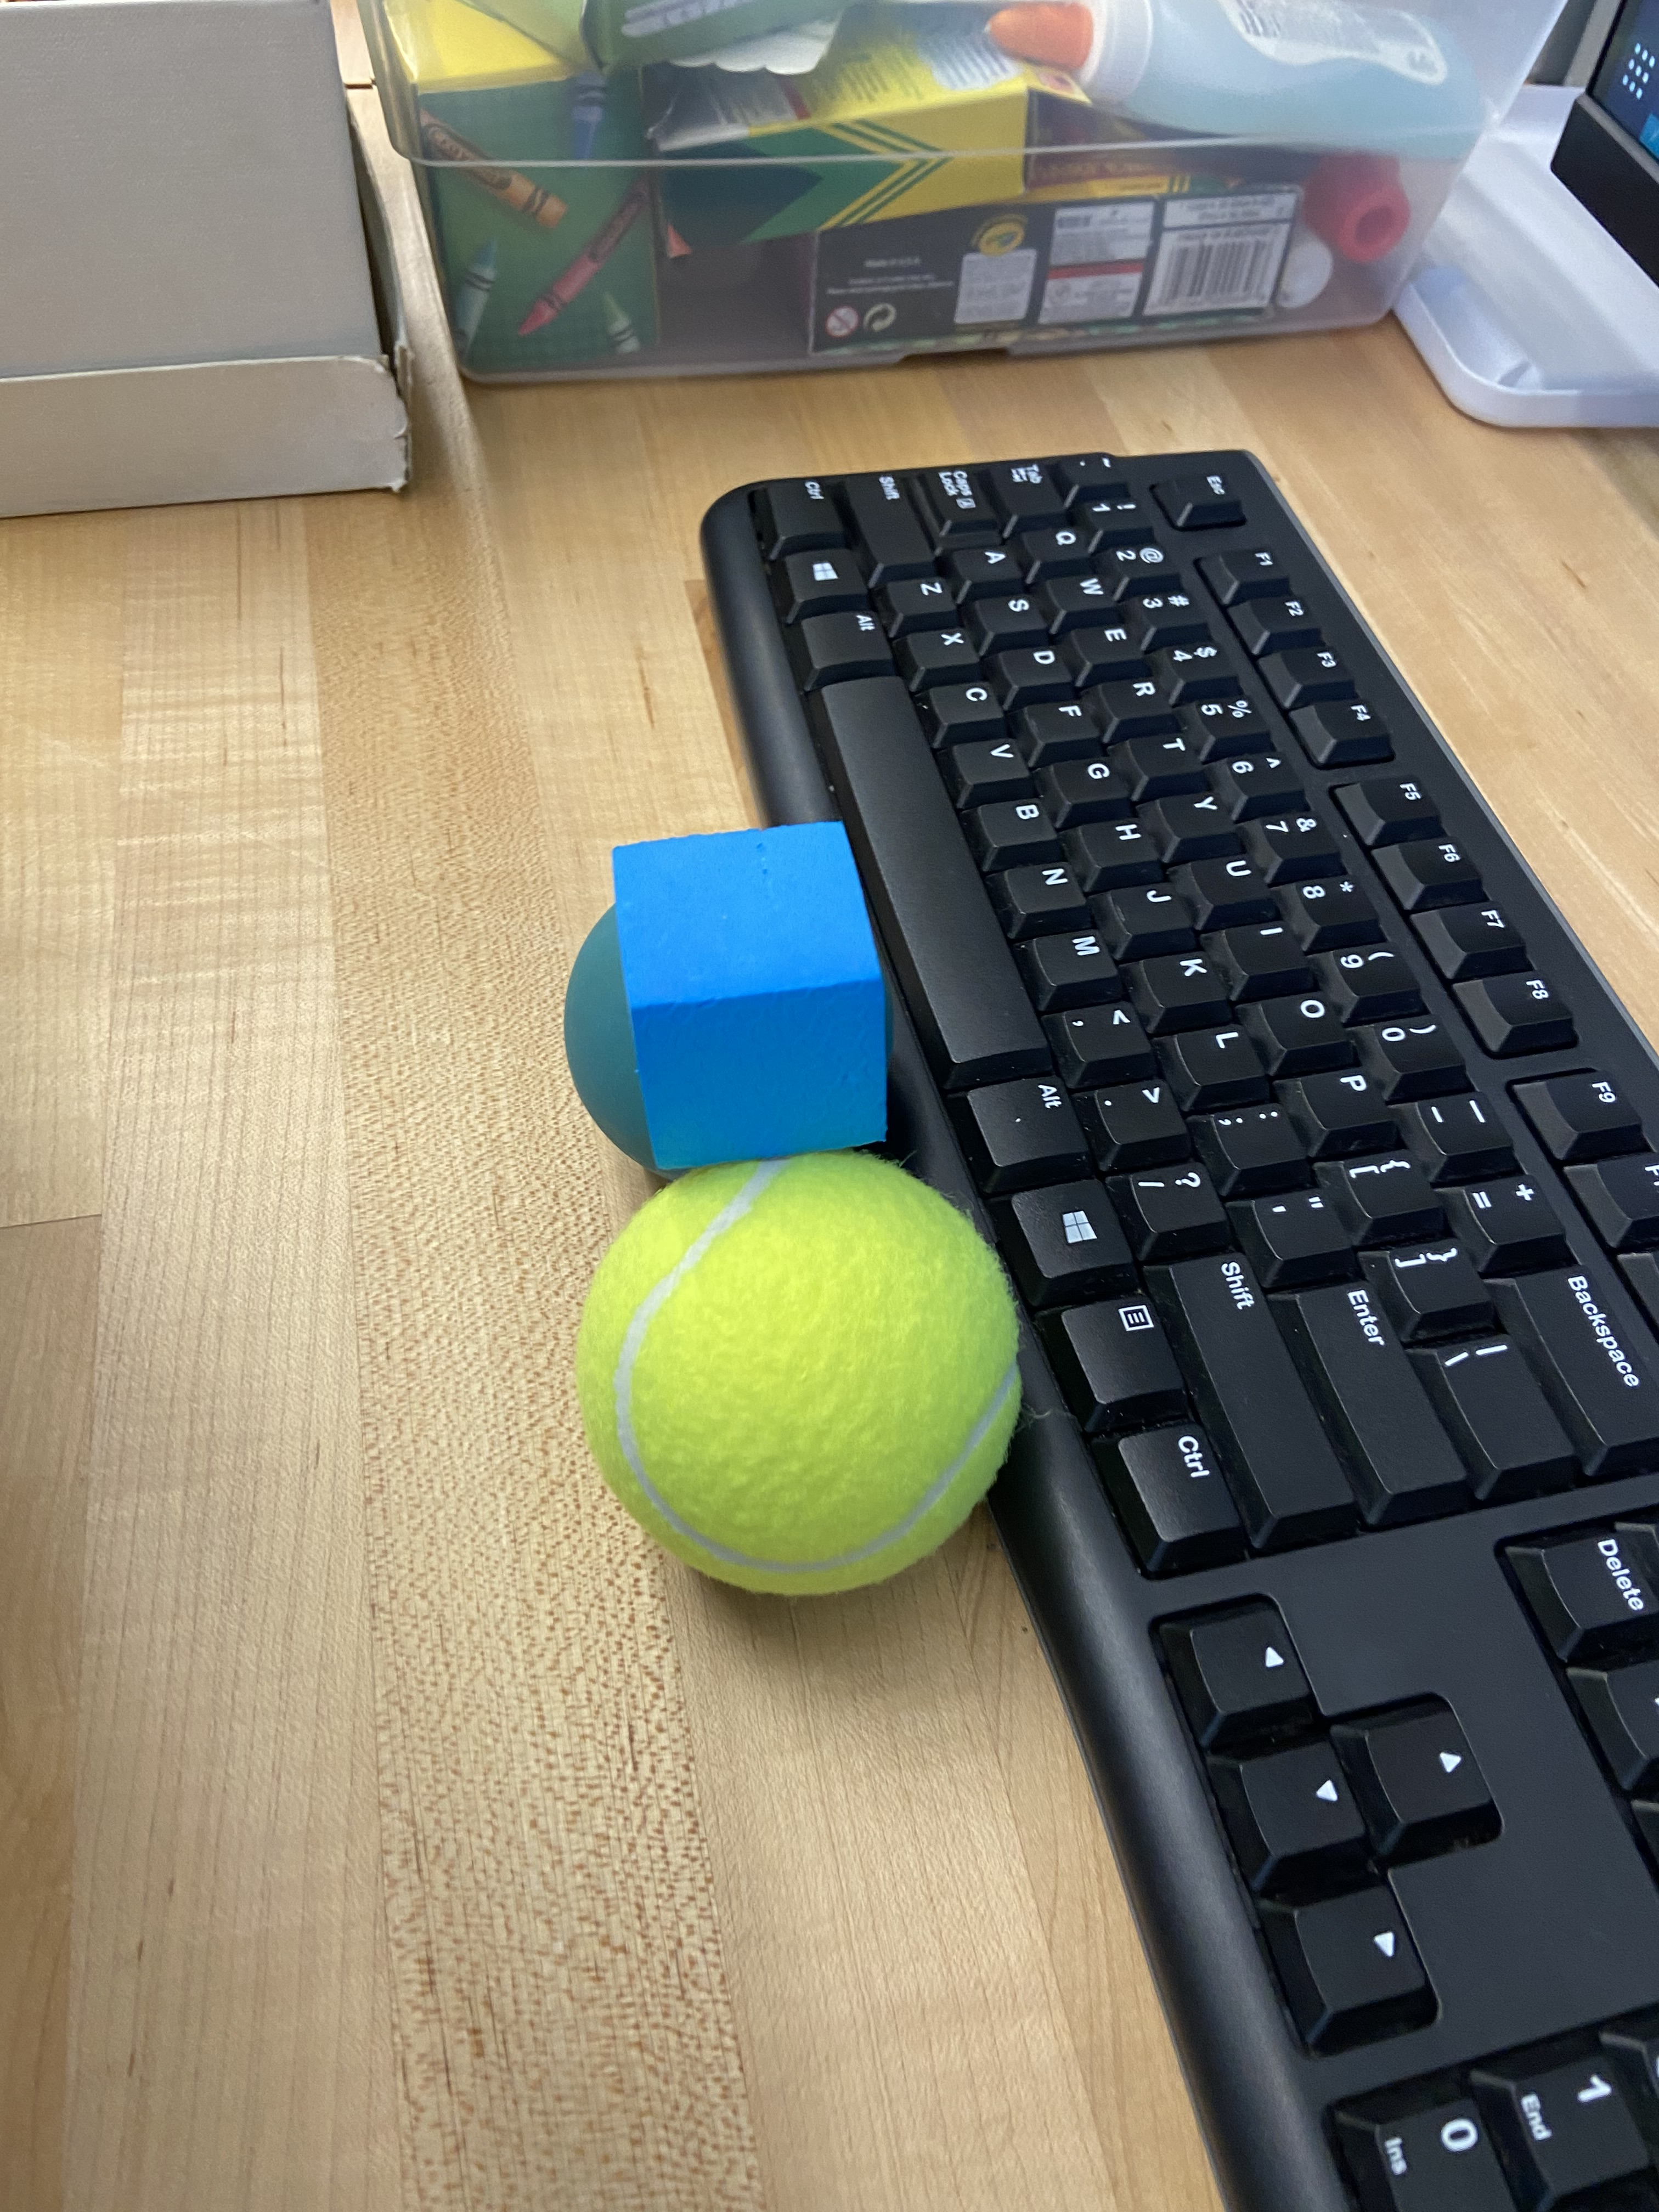Cube: (605, 833, 896, 1158)
ball: (568, 1153, 1026, 1606)
